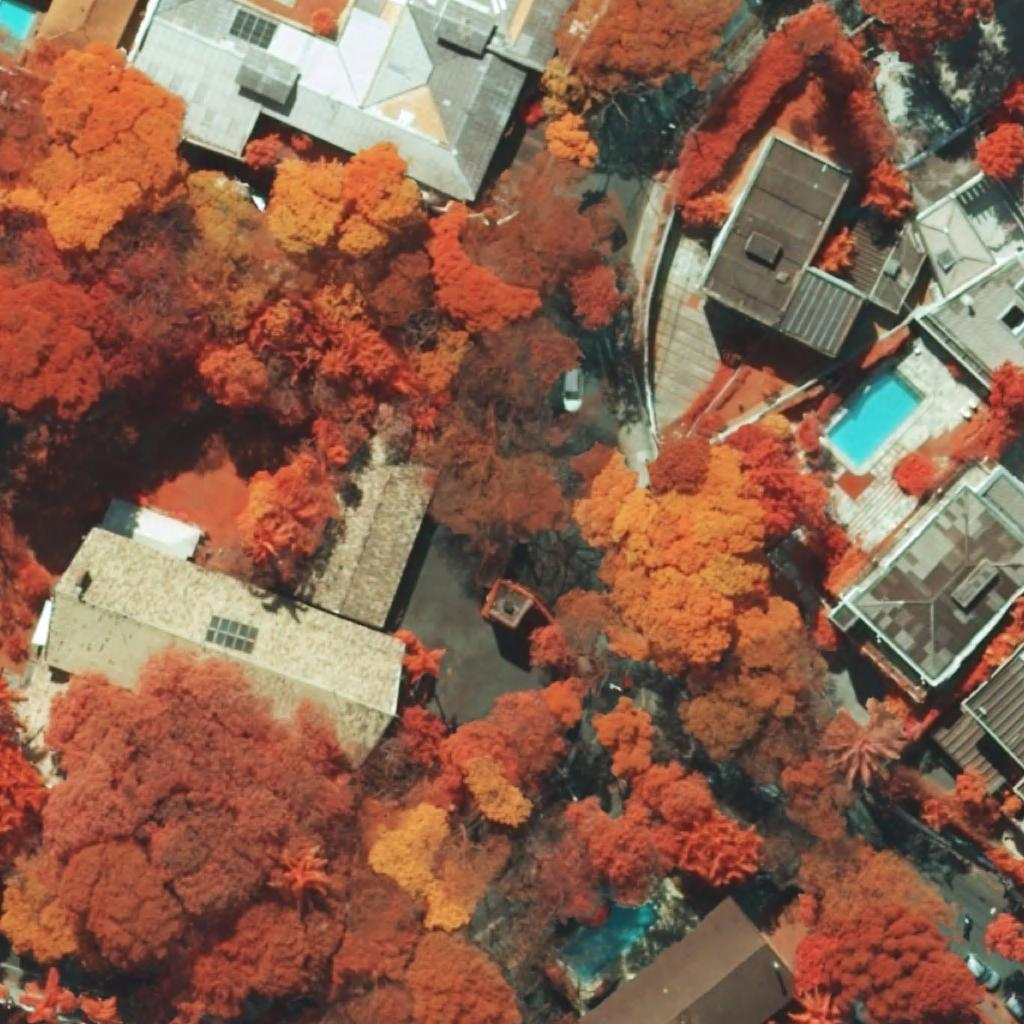pool: (828, 363, 927, 468), (559, 902, 662, 982), (0, 0, 37, 40)
